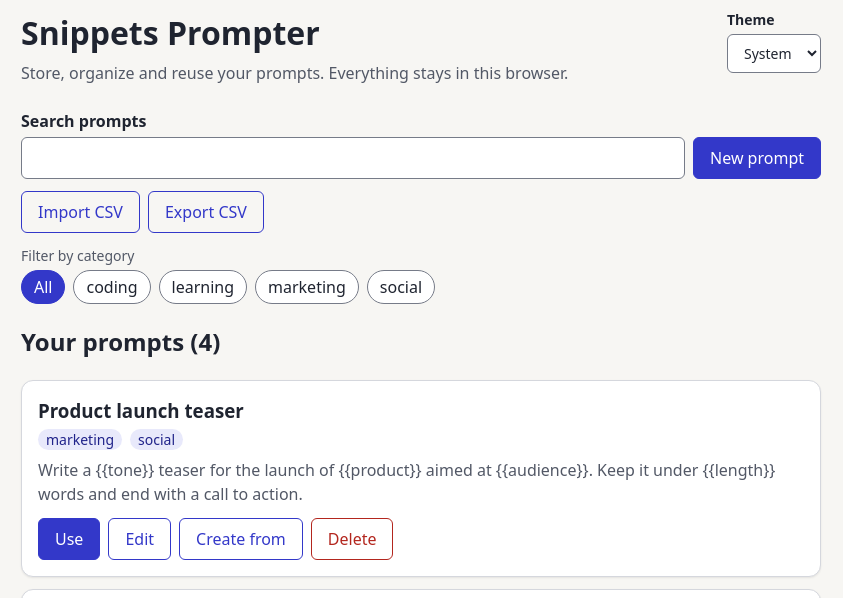
it: App › creates from an existing prompt and forgets a deleted source
Click the button with aria-label "Create from Product launch teaser" at (241, 539), box left=179, top=518, right=303, bottom=560
(page scrolled)
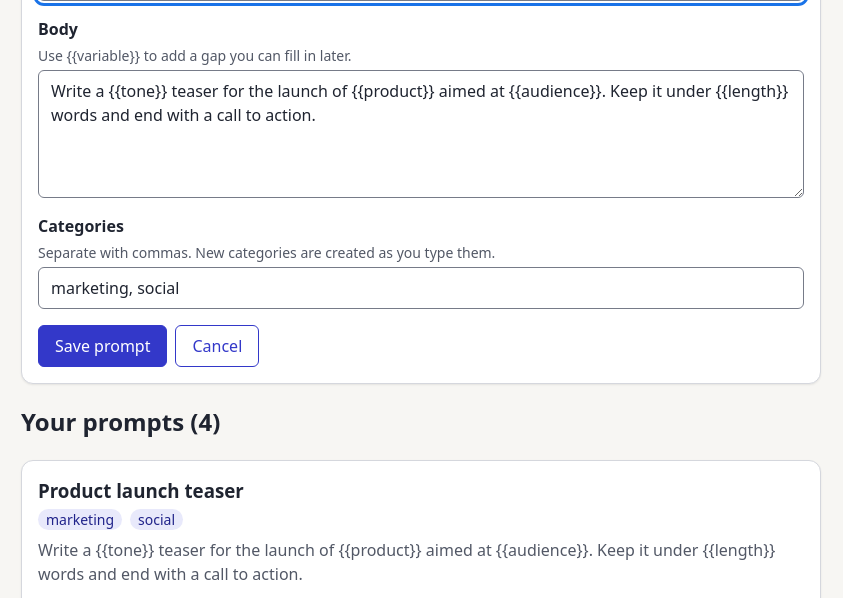
Click the button "Save prompt" at (103, 346), box left=38, top=325, right=168, bottom=367
(page scrolled)
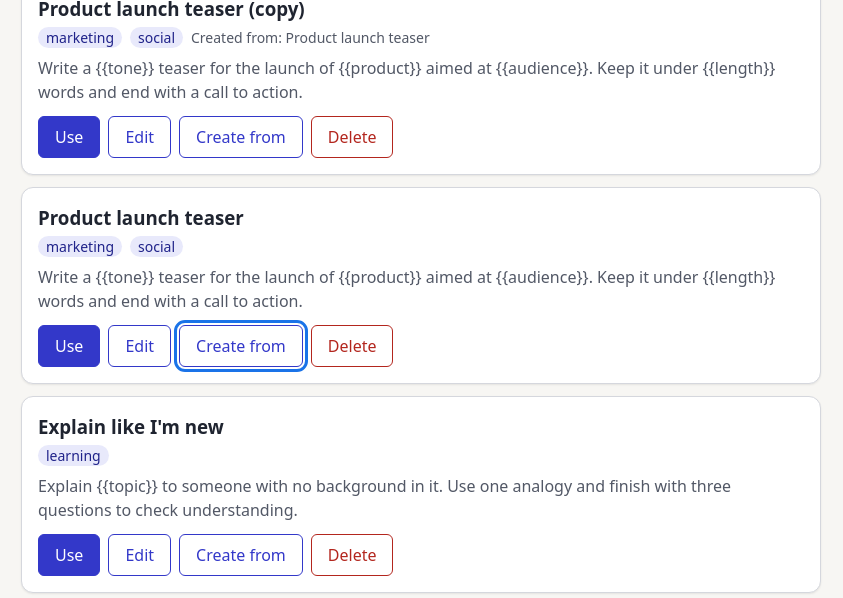
Expected: the text "Created from: Product launch teaser" is shown, left=191, top=27, right=430, bottom=48
Click the button with aria-label "Delete Product launch teaser" at (352, 346), box left=311, top=325, right=394, bottom=367
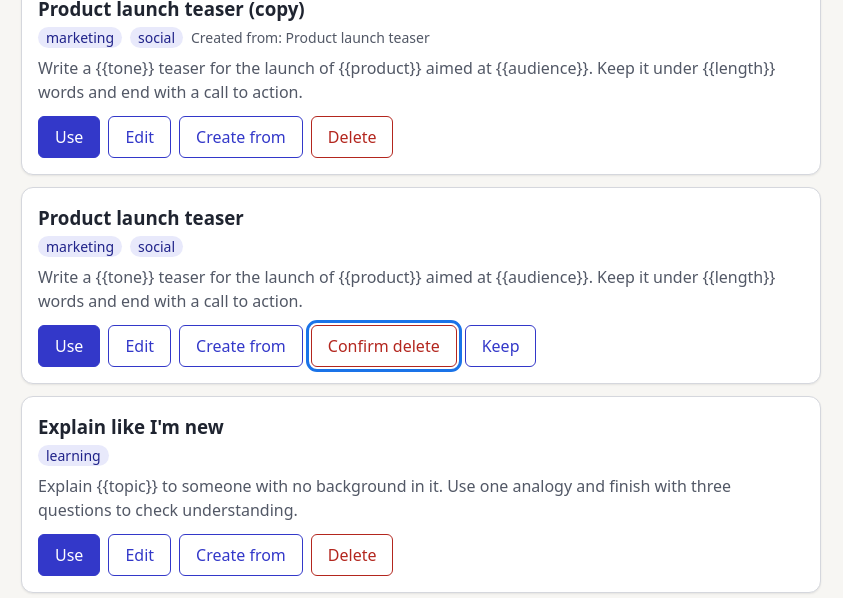
Click the button with aria-label "Confirm delete Product launch teaser" at (384, 346), box left=311, top=325, right=457, bottom=367
(page scrolled)
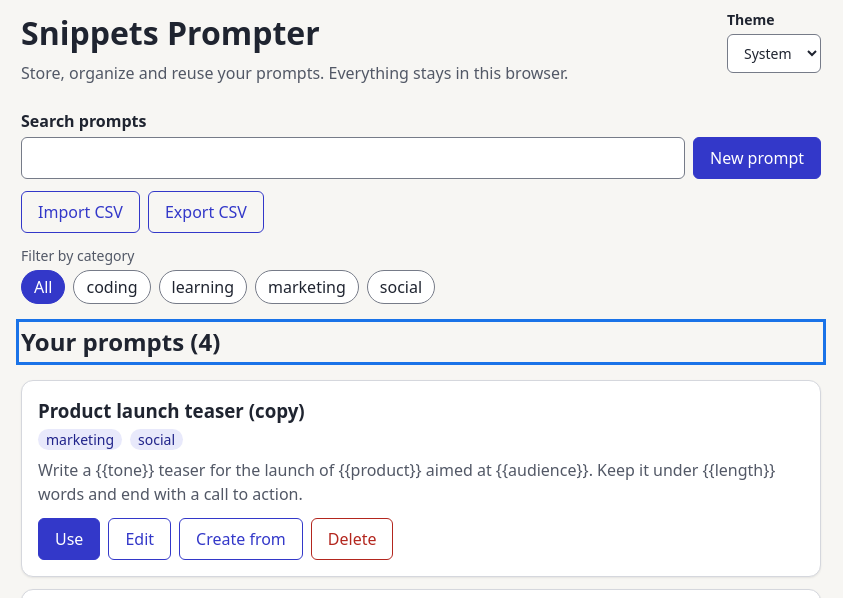
Expected: the text "Created from" is gone
